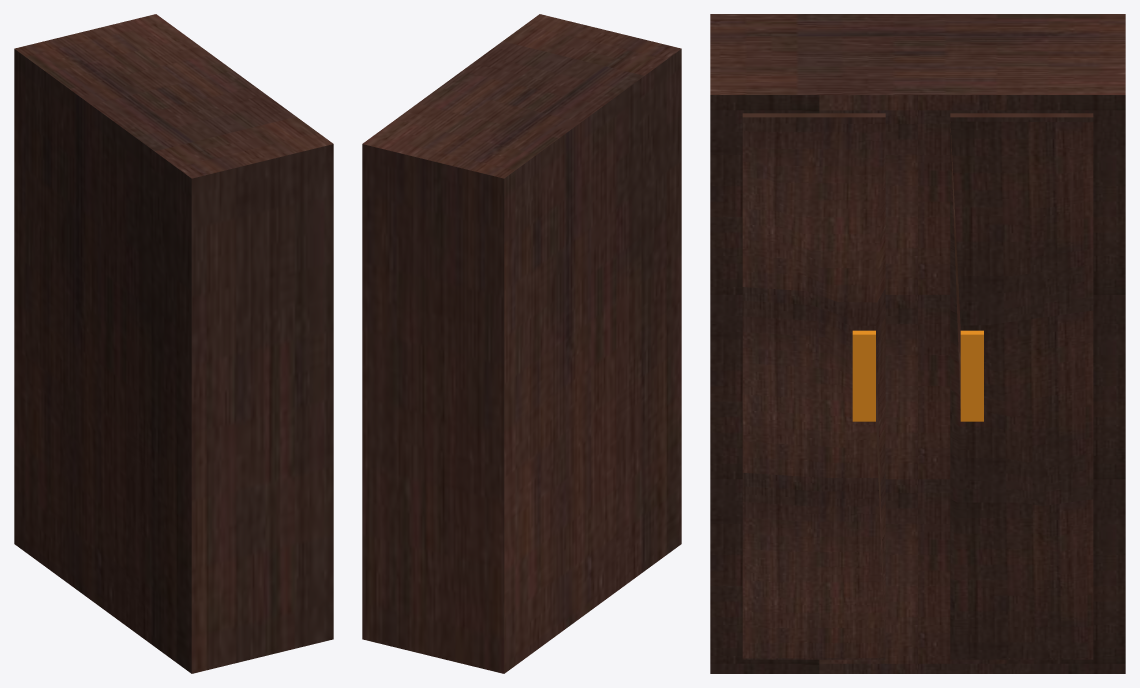
File: ArmoireMedievale.fbx
3 views of the same model, side by side, from view 1: azimuth 30°, elevation 25°; view 2: azimuth 150°, elevation 25°; view 3: azimuth 270°, elevation 25° (orthographic). The views are drawn at different scales.
Visible parts, largest first — view 1: ArmoireMedievale; view 2: ArmoireMedievale; view 3: ArmoireMedievale.
Boxes of the visible parts, x1,y1,x2,y2 form: ArmoireMedievale: (14,14,333,673); ArmoireMedievale: (362,14,681,673); ArmoireMedievale: (710,14,1125,673).
Bounding box in the file's own units: 66 × 200 × 130.
